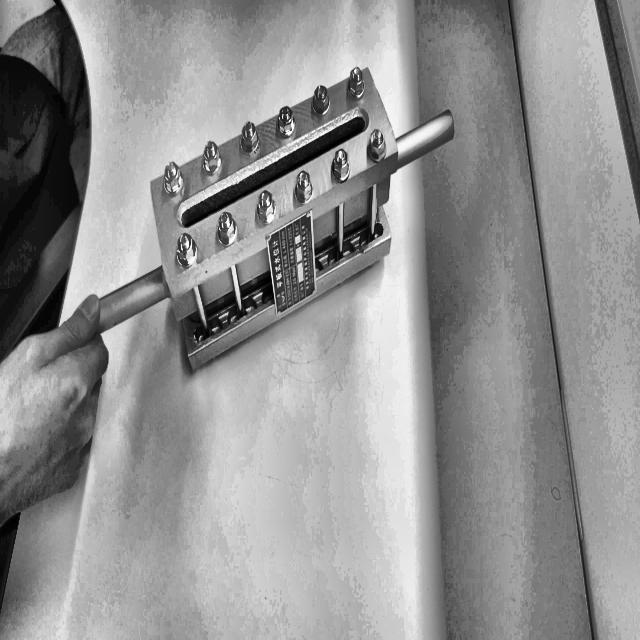ShuiWeiQi_12: (101, 41, 458, 377)
